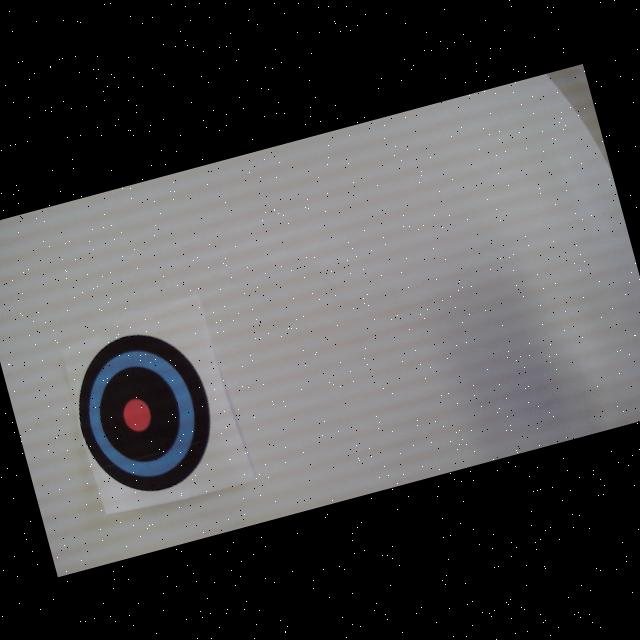COGNITIVE: (59, 318, 230, 509)
